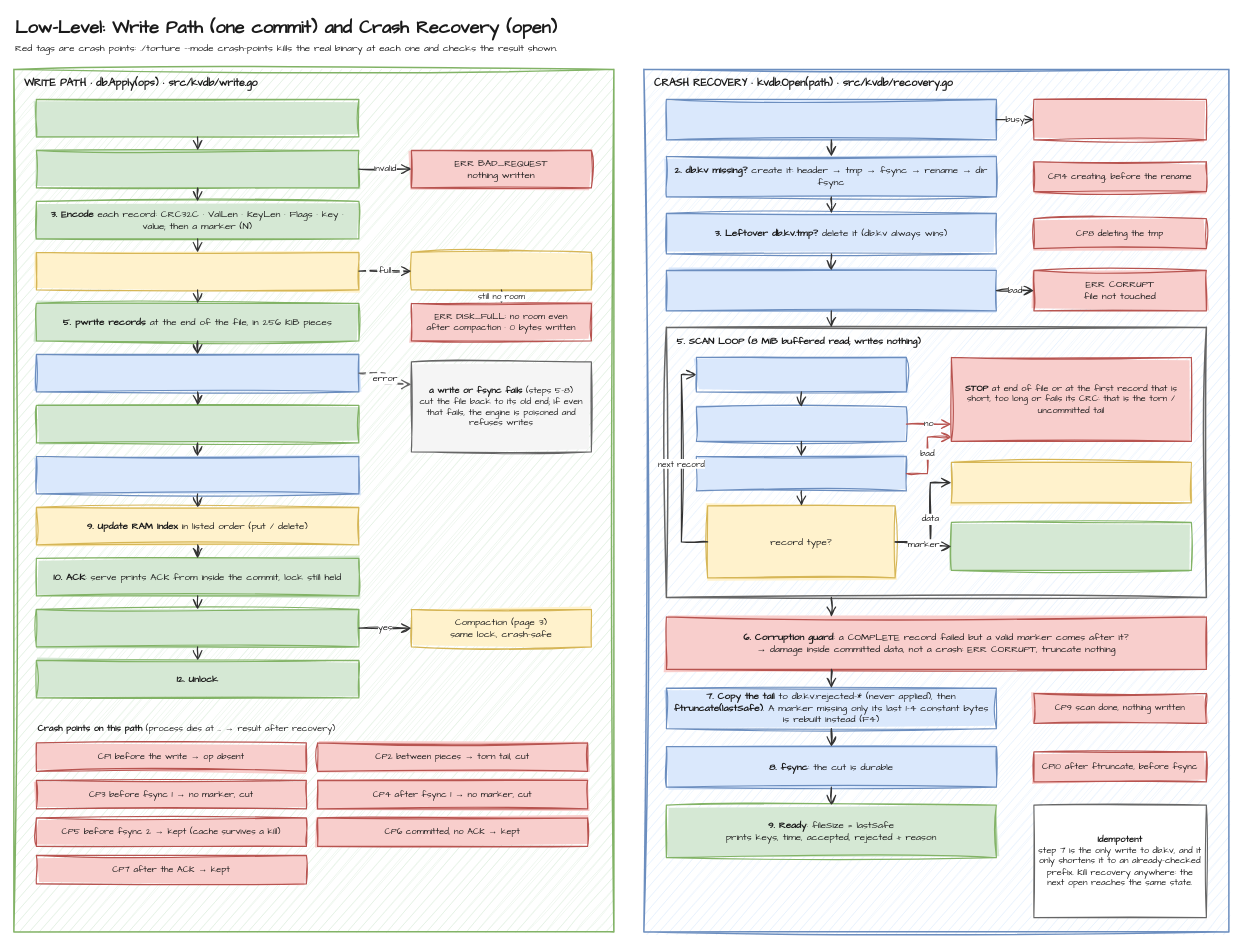
The diagram is 1242 pixels wide and 945 high, and some of its shapes have lost their labels. The shapes that lost their labels are listed below. From the top down, each one's centre as x and y in pixels, then its label:
pixel 197 117: 1. Take the write lock (one writer at a time)
pixel 831 119: 1. Lock db.kv.lock (flock / LockFileEx)
pixel 1120 119: ERR DB_LOCKED another process has it
pixel 197 168: 2. Validate : key 1–1024 B · value ≤ 1 MiB · 1–10,000 ops
pixel 197 270: 4. Space guard : file + write ≤ limit? (PUTs keep the last 1/8 free for deletes)
pixel 501 270: room after compacting: compact first, then go on
pixel 831 290: 4. Check the 16-byte header ("KIPI", version 1)
pixel 197 372: 6. fsync #1 : the records are on the disk
pixel 801 374: read the 12-byte header
pixel 197 423: 7. pwrite commit marker (12 bytes, ValLen = N records)
pixel 801 424: lengths within limits? (checked before allocating)
pixel 197 474: 8. fsync #2 : marker on disk = COMMITTED
pixel 801 473: read key + value · CRC32C matches?
pixel 1071 482: data record (PUT / DEL) stage it, not applied yet
pixel 1071 546: marker with count = staged apply staged to the index · lastSafe = end
pixel 197 627: 11. Auto-compact? dead > max(1 MiB, live) or database empty
